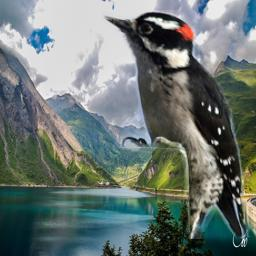Woodpecker: (102, 10, 250, 239)
